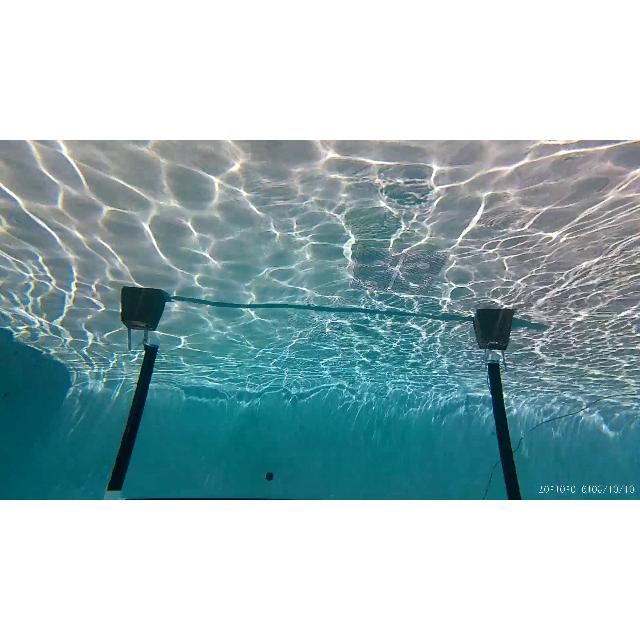prequal gate: (102, 340, 522, 500)
prequal gate leg l: (466, 332, 526, 500)
prequal gate leg r: (100, 331, 164, 497)
